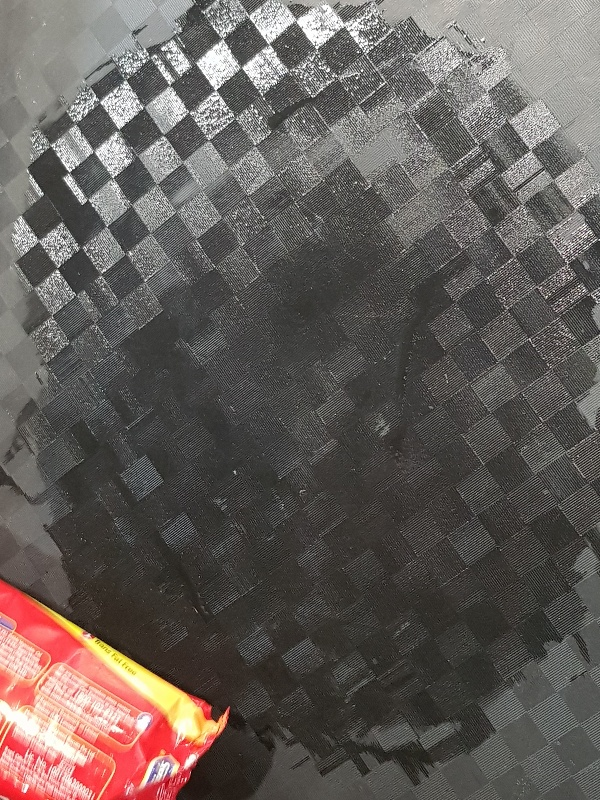McVitie's Ginger Cookies: (1, 576, 232, 800)
